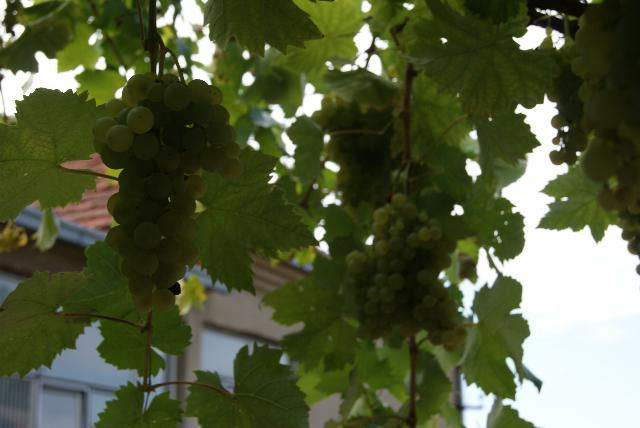grapes: (92, 72, 242, 314)
